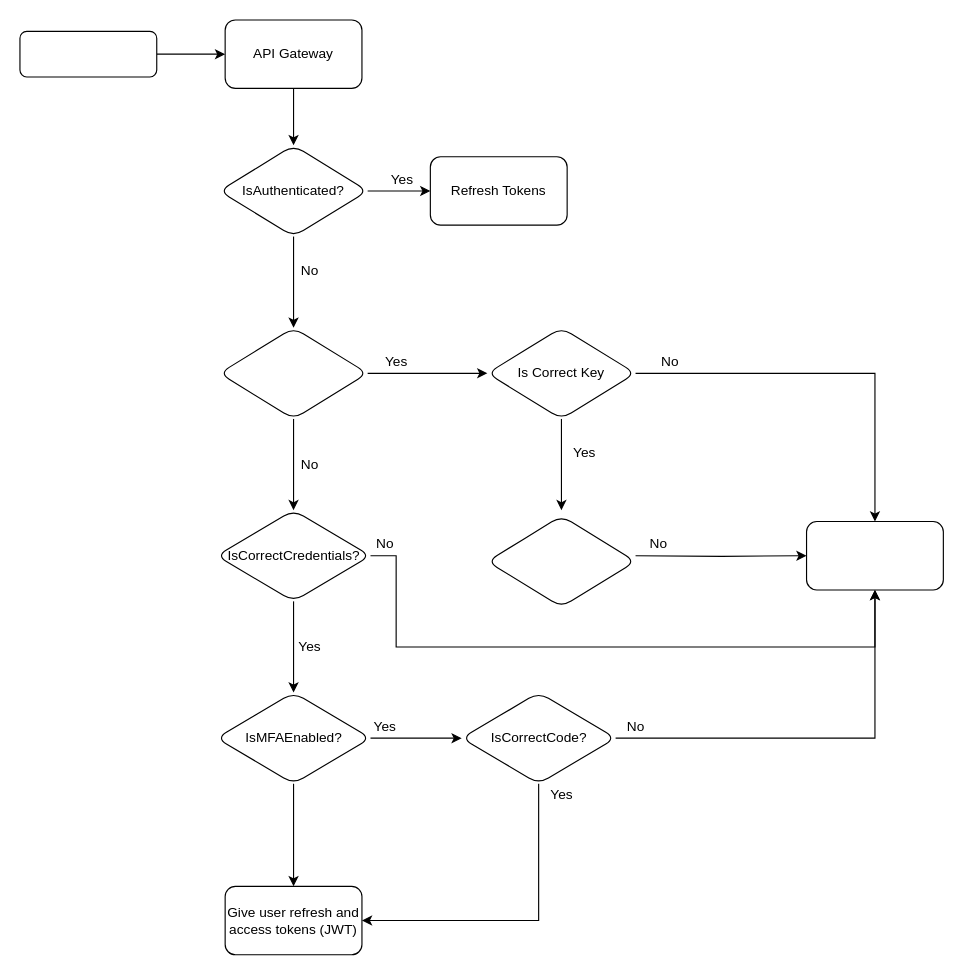
This 963x975 diagram has some shape labels left out. Here are the shapes that lost their labels. From the top down, the centre of each, then its label:
At point 88,53: "Login Request".
At point 293,373: "IsFIDO2Enabled?".
At point 561,561: "Is Correct Pin".
At point 874,555: "Login Failed".
